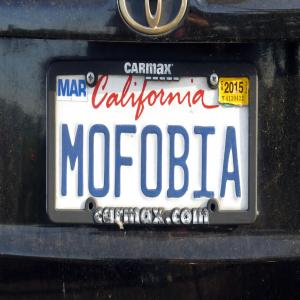Vehicle-registration-plate: (46, 63, 260, 228)
